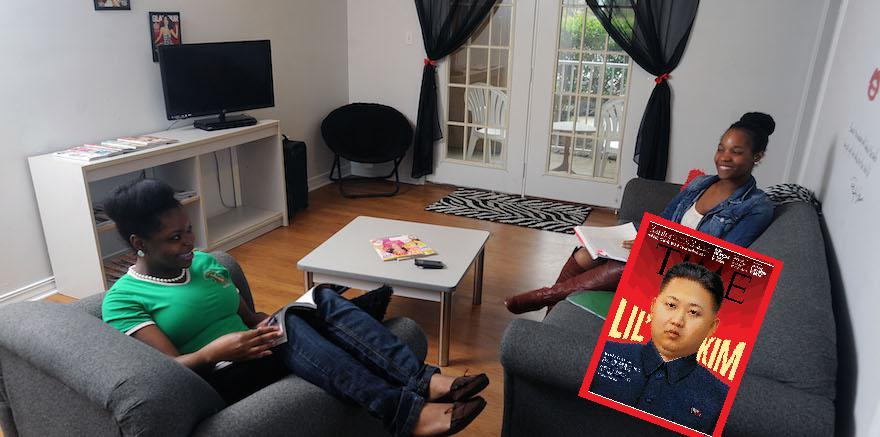times: (573, 207, 785, 437)
